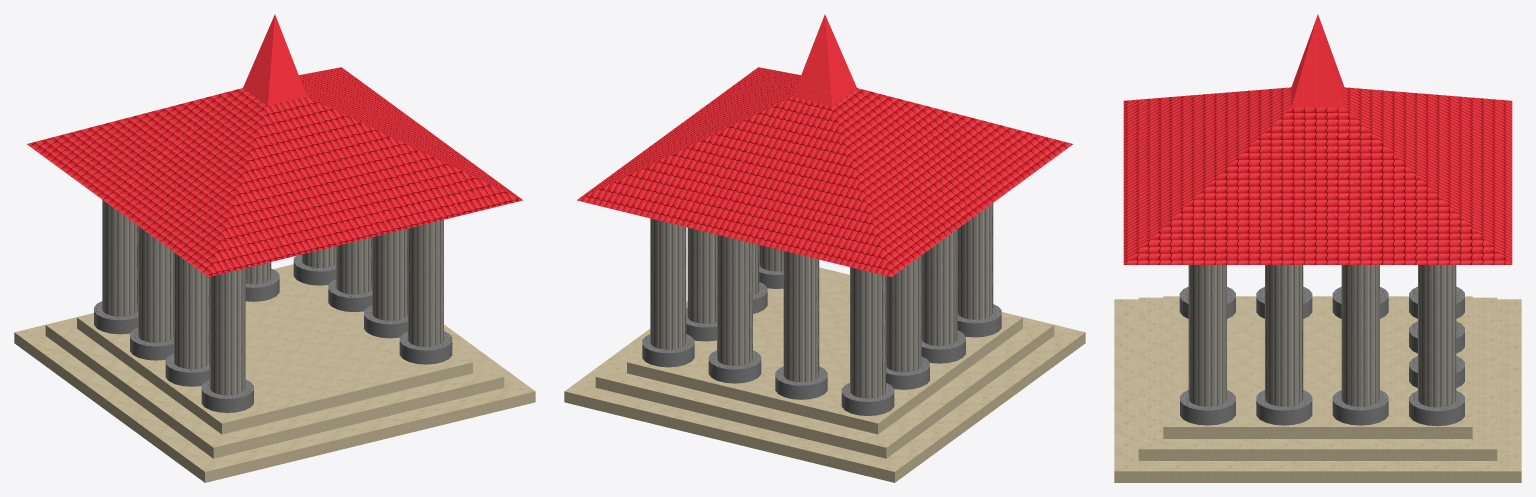
Rendered from Basic Temple.obj.
3 renders of one model, left to right at view 1: azimuth 30°, elevation 25°; view 2: azimuth 150°, elevation 25°; view 3: azimuth 270°, elevation 25°, orthographic. The views are drawn at different scales.
Parts seen in each view (by area): view 1: Roof, Box003, Box006, Box005, Cylinder009, Cylinder019, Cylinder013, Cylinder012, Cylinder011, Cylinder017, Cylinder018, Cylinder029 (+9 smaller); view 2: Roof, Box003, Box006, Box005, Cylinder016, Cylinder014, Cylinder013, Cylinder015, Cylinder009, Cylinder011, Cylinder012, Cylinder018 (+9 smaller); view 3: Roof, Box003, Box006, Box005, Cylinder016, Cylinder017, Cylinder018, Cylinder019, Cylinder027, Cylinder028, Cylinder029, Cylinder026 (+6 smaller).
Part boxes in pixels (x1,y1,x2,y2): Roof: (27, 14, 522, 277); Box003: (77, 264, 472, 434); Box006: (14, 264, 535, 482); Box005: (45, 264, 504, 458); Cylinder009: (209, 268, 245, 395); Cylinder019: (408, 220, 443, 346); Cylinder013: (102, 200, 138, 316); Cylinder012: (138, 226, 173, 342); Cylinder011: (174, 252, 209, 369); Cylinder017: (372, 228, 407, 320); Cylinder018: (336, 237, 372, 294); Cylinder029: (399, 331, 452, 364); Roof: (577, 14, 1072, 277); Box003: (627, 268, 1022, 434); Box006: (564, 267, 1085, 482); Box005: (595, 267, 1054, 458); Cylinder016: (650, 218, 686, 349); Cylinder014: (783, 251, 819, 382); Cylinder013: (850, 267, 885, 398); Cylinder015: (717, 234, 752, 365); Cylinder009: (957, 203, 993, 319); Cylinder011: (921, 229, 957, 345); Cylinder012: (886, 255, 921, 372); Cylinder018: (687, 227, 716, 323); Roof: (1123, 14, 1512, 264); Box003: (1163, 296, 1472, 438); Box006: (1114, 299, 1521, 482); Box005: (1138, 297, 1497, 460); Cylinder016: (1418, 265, 1456, 407); Cylinder017: (1265, 265, 1303, 406); Cylinder018: (1341, 265, 1379, 406); Cylinder019: (1188, 265, 1226, 406); Cylinder027: (1256, 390, 1312, 425); Cylinder028: (1332, 390, 1388, 425); Cylinder029: (1180, 390, 1235, 425); Cylinder026: (1409, 390, 1464, 426).
Bounding box in the file's own units: 124 × 128 × 124.
